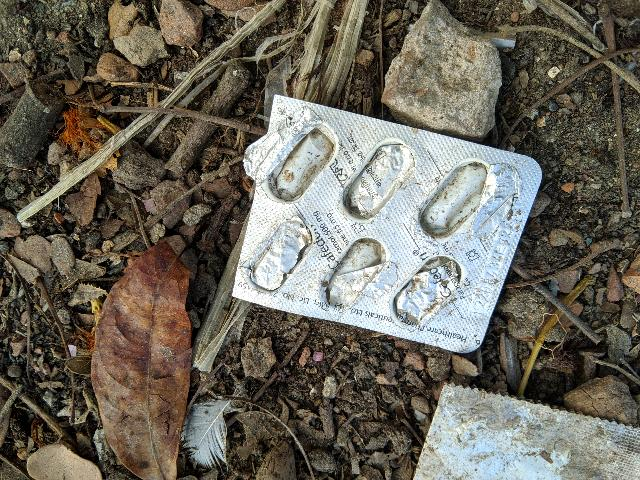medicine: (219, 79, 559, 370)
